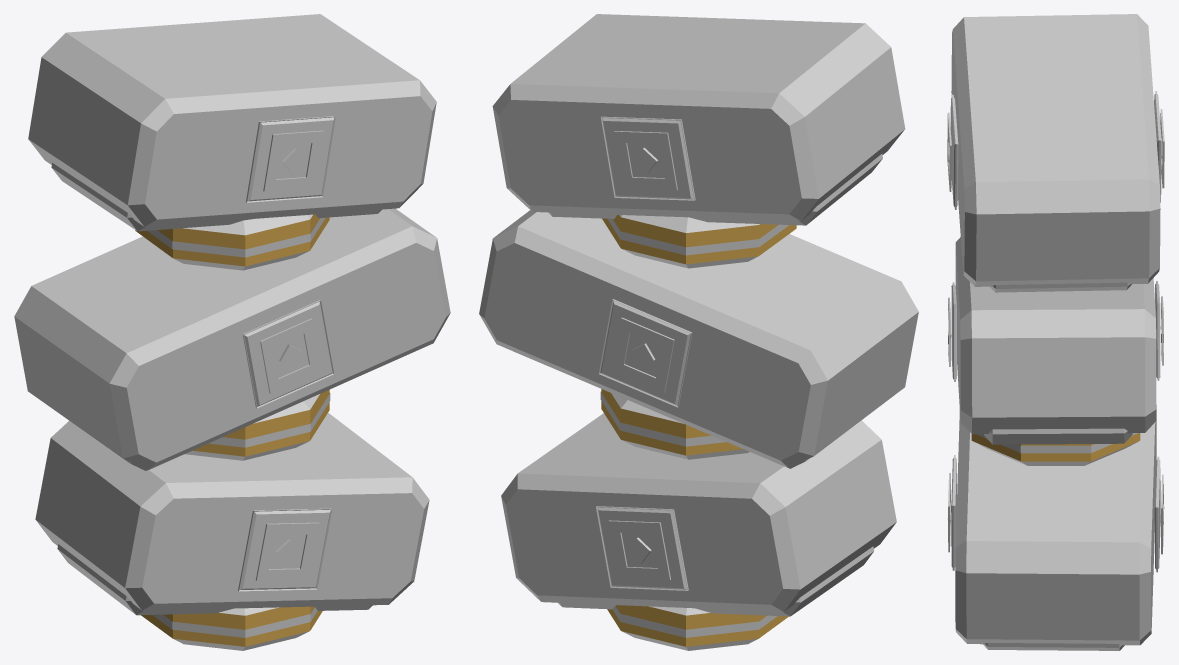
File: wand_motion_30.obj
3 views of the same model, side by side, from view 1: azimuth 30°, elevation 25°; view 2: azimuth 150°, elevation 25°; view 3: azimuth 270°, elevation 25° (orthographic). The views are drawn at different scales.
Visible parts, largest first — view 1: chamfered_seal_tablet_2, chamfered_seal_tablet_1, chamfered_seal_tablet_0, tablet_spacer_2, inset_rune_socket_1, tablet_spacer_0, inset_rune_socket_3, inset_rune_socket_5, tablet_spacer_1, seal_shadow_base_2, seal_shadow_base_0, tablet_spacer_dark_seam_2 (+2 smaller); view 2: chamfered_seal_tablet_2, chamfered_seal_tablet_1, chamfered_seal_tablet_0, tablet_spacer_2, inset_rune_socket_4, inset_rune_socket_2, inset_rune_socket_0, tablet_spacer_0, tablet_spacer_1, seal_shadow_base_0, seal_shadow_base_2, tablet_spacer_dark_seam_2 (+2 smaller); view 3: chamfered_seal_tablet_2, chamfered_seal_tablet_0, chamfered_seal_tablet_1, seal_shadow_base_1, tablet_spacer_1, seal_shadow_base_2, seal_shadow_base_0, tablet_spacer_dark_seam_1, inset_rune_socket_5, inset_rune_socket_0, inset_rune_socket_1, inset_rune_socket_3 (+2 smaller).
Part boxes in pixels (x1,y1,x2,y2): chamfered_seal_tablet_2: (28, 14, 436, 226); chamfered_seal_tablet_1: (14, 208, 450, 470); chamfered_seal_tablet_0: (35, 413, 429, 610); tablet_spacer_2: (135, 214, 329, 270); inset_rune_socket_1: (238, 508, 332, 591); tablet_spacer_0: (141, 606, 322, 650); inset_rune_socket_3: (242, 300, 333, 408); inset_rune_socket_5: (246, 116, 335, 202); tablet_spacer_1: (184, 389, 329, 460); seal_shadow_base_2: (51, 163, 381, 231); seal_shadow_base_0: (57, 544, 372, 615); tablet_spacer_dark_seam_2: (147, 217, 325, 257); chamfered_seal_tablet_2: (492, 14, 905, 221); chamfered_seal_tablet_1: (479, 210, 918, 468); chamfered_seal_tablet_0: (501, 413, 896, 611); tablet_spacer_2: (602, 215, 796, 268); inset_rune_socket_4: (600, 116, 695, 200); inset_rune_socket_2: (599, 299, 692, 407); inset_rune_socket_0: (596, 506, 688, 590); tablet_spacer_0: (607, 605, 788, 650); tablet_spacer_1: (601, 389, 749, 459); seal_shadow_base_0: (558, 546, 874, 616); seal_shadow_base_2: (548, 153, 882, 225); tablet_spacer_dark_seam_2: (607, 218, 788, 255); chamfered_seal_tablet_2: (951, 14, 1160, 286); chamfered_seal_tablet_0: (955, 405, 1156, 645); chamfered_seal_tablet_1: (955, 237, 1156, 434); seal_shadow_base_1: (984, 428, 1132, 444); tablet_spacer_1: (971, 433, 1140, 465); seal_shadow_base_2: (990, 282, 1131, 292); seal_shadow_base_0: (983, 643, 1124, 650); tablet_spacer_dark_seam_1: (976, 433, 1138, 453); inset_rune_socket_5: (950, 94, 958, 209); inset_rune_socket_0: (1154, 456, 1160, 572); inset_rune_socket_1: (951, 455, 956, 570); inset_rune_socket_3: (951, 282, 956, 381).
Size of the model in its own units: 0.1966 by 0.3161 by 0.1145.
